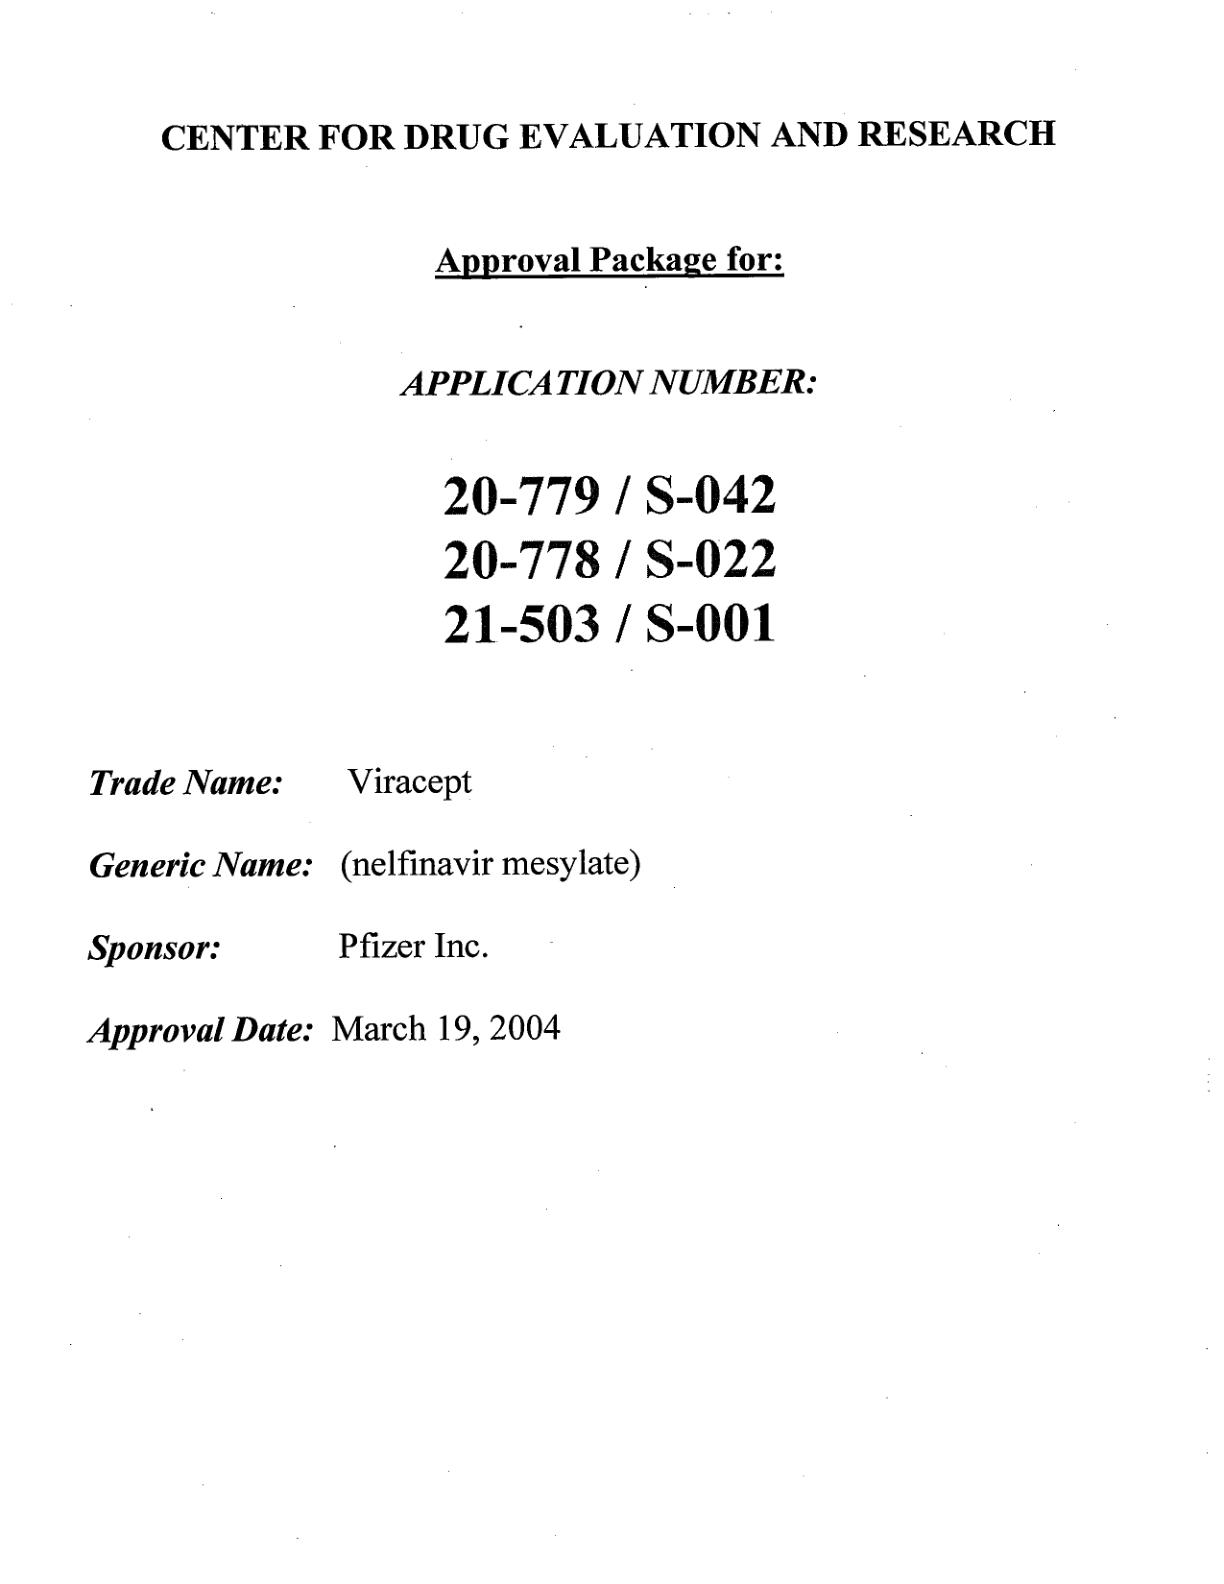nolines: (87, 762, 645, 1054)
